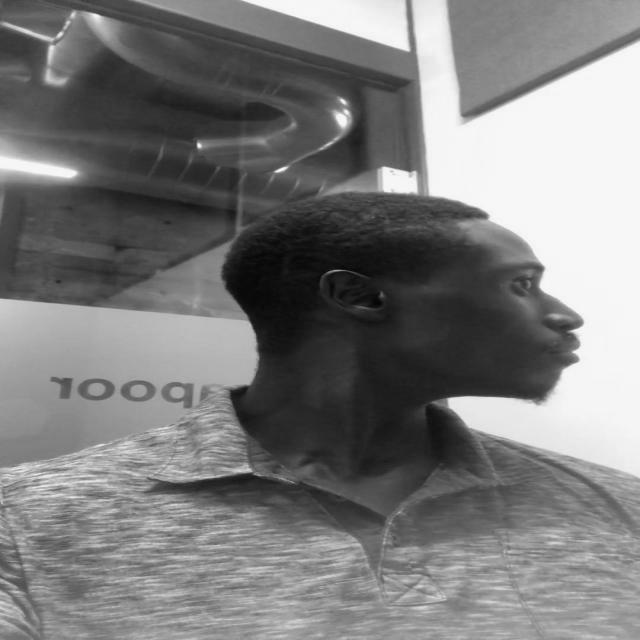real: (294, 215, 586, 404)
